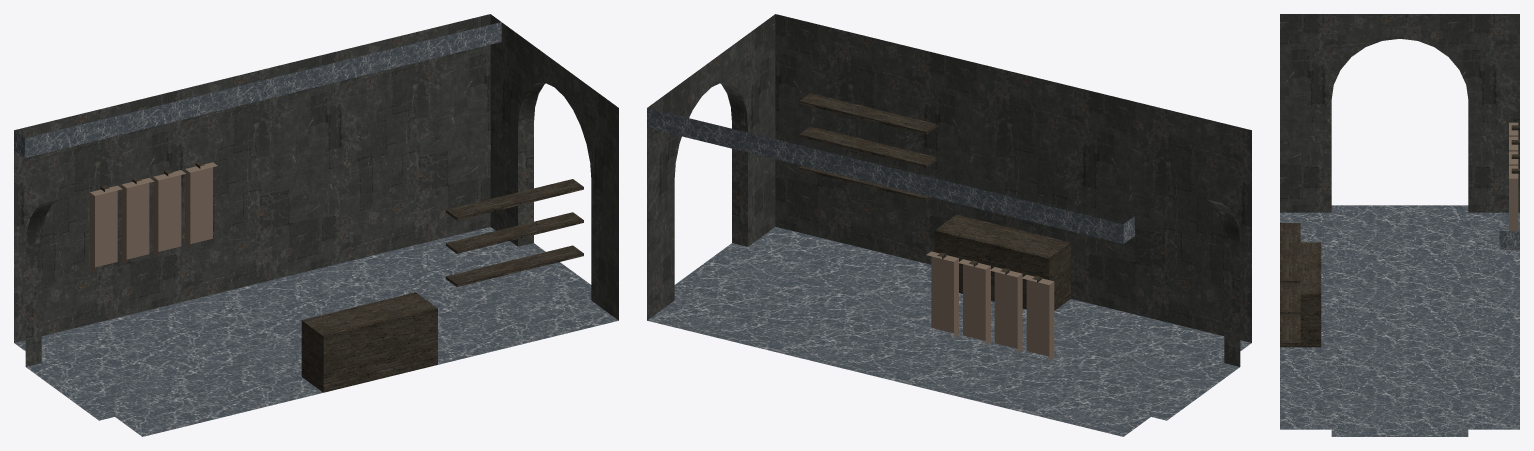
The model's file is vestry.5476387e.gltf.
3 renders of one model, left to right at view 1: azimuth 30°, elevation 25°; view 2: azimuth 150°, elevation 25°; view 3: azimuth 270°, elevation 25°, orthographic. The views are drawn at different scales.
Parts seen in each view (by area): view 1: vestry-mesh, vestry-props; view 2: vestry-mesh, vestry-props; view 3: vestry-mesh, vestry-props.
Boxes of the visible parts, left/top/right/bottom form: vestry-mesh: left=14, top=14, right=618, bottom=436; vestry-props: left=89, top=162, right=583, bottom=392; vestry-mesh: left=647, top=14, right=1251, bottom=436; vestry-props: left=799, top=93, right=1070, bottom=361; vestry-mesh: left=1280, top=14, right=1519, bottom=436; vestry-props: left=1280, top=122, right=1519, bottom=347.
Bounding box in the file's own units: 8 × 3.2 × 3.5.
Materials: 4 (3 with a texture image).
